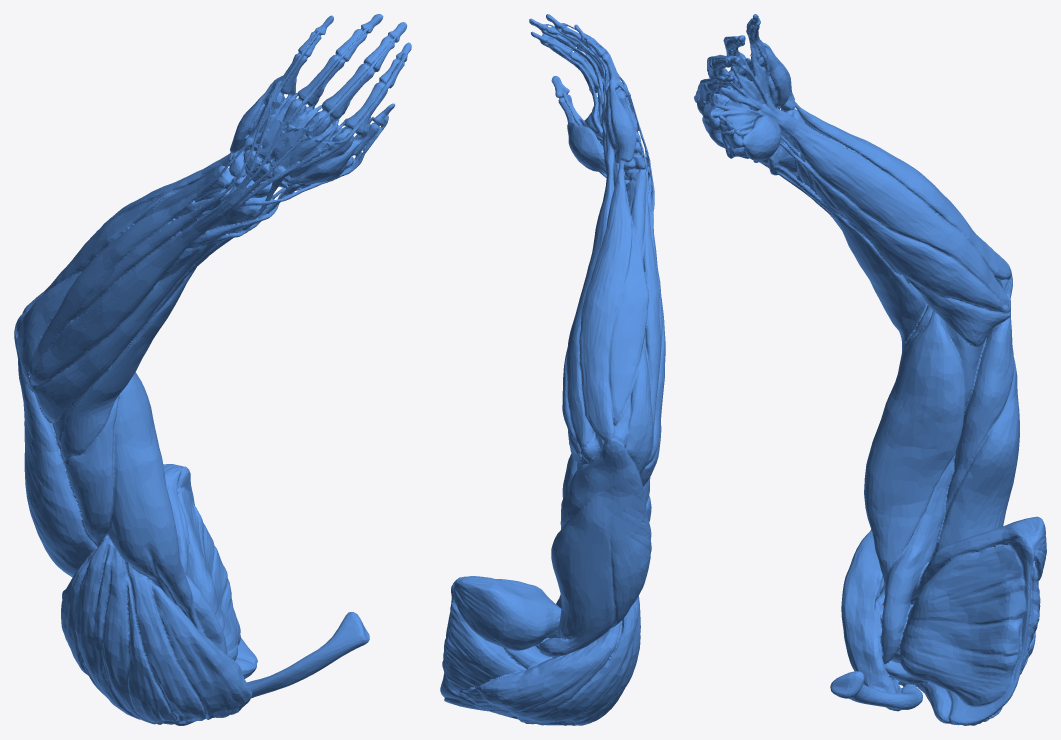
File: 3DPX-012628.glb
3 views of the same model, side by side, from view 1: azimuth 30°, elevation 25°; view 2: azimuth 150°, elevation 25°; view 3: azimuth 270°, elevation 25° (orthographic). The views are drawn at different scales.
Visible parts, largest first — view 1: 3dp_nlmvhm_larm_0-repaired-nih3d; view 2: 3dp_nlmvhm_larm_0-repaired-nih3d; view 3: 3dp_nlmvhm_larm_0-repaired-nih3d.
Part boxes in pixels (box(x1,y1,x2,y2)): 3dp_nlmvhm_larm_0-repaired-nih3d: box(14, 14, 411, 725); 3dp_nlmvhm_larm_0-repaired-nih3d: box(440, 14, 665, 725); 3dp_nlmvhm_larm_0-repaired-nih3d: box(694, 14, 1046, 725).
Size of the model in its own units: 2.98 by 7.57 by 3.38.
